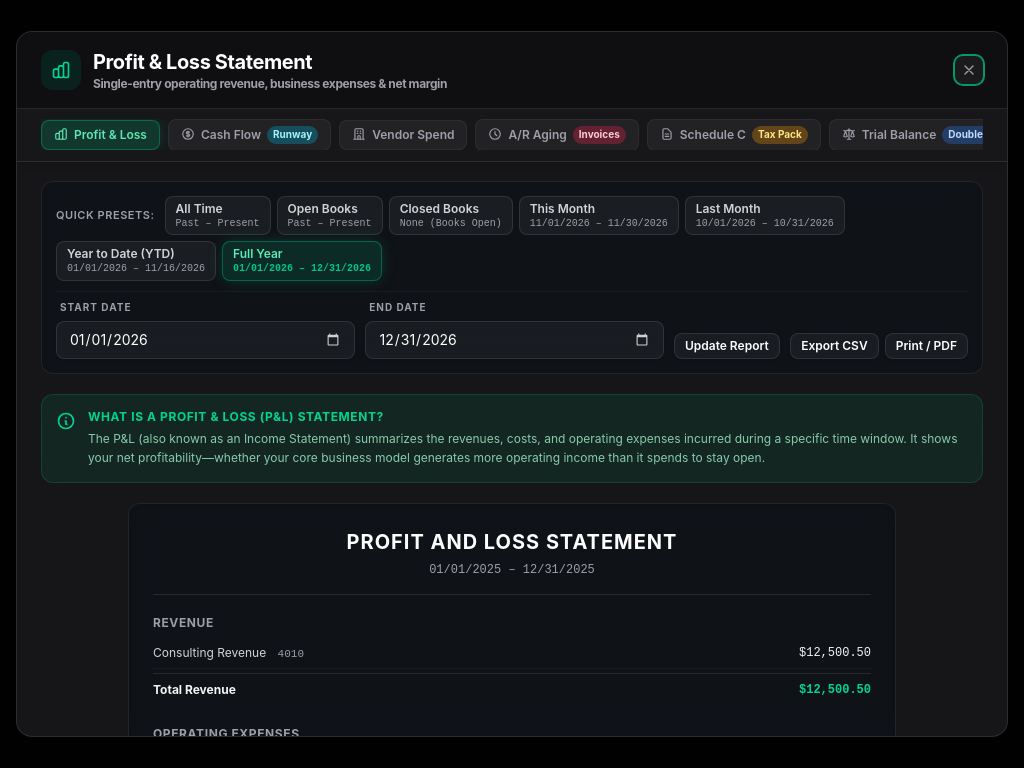
Test: ReportsModal - S23A (P&L, Cash Flow, Vendor Spend) › switches to Cash Flow and Vendor Spend tabs, renders analytics & 1099-NEC indicators, and handles empty states
The width and height of the screenshot is (1024, 768).
Expected: the text "Consulting Revenue" is shown, top-left (153, 645), bottom-right (266, 660)
Note: Tab 2: Cash Flow
Click the tab "Cash Flow Runway".
click(250, 134)  # box top-left (168, 119), bottom-right (331, 150)
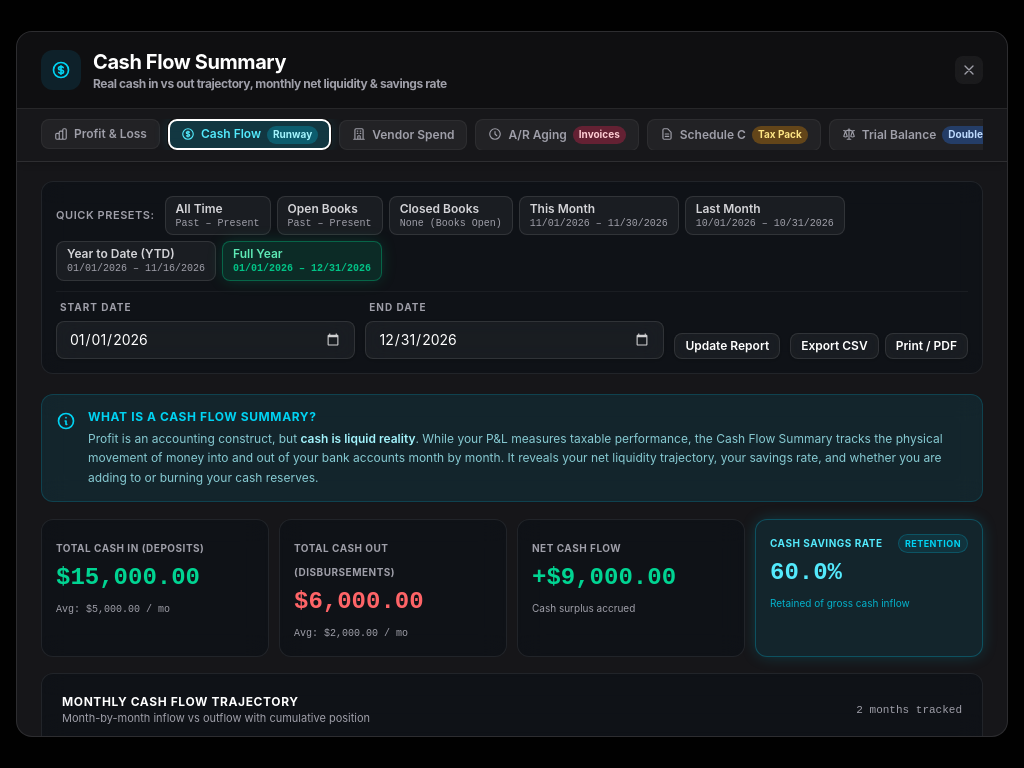
Expected: the heading "Monthly Cash Flow Trajectory" is shown, top-left (62, 694), bottom-right (299, 708)
Expected: the text "$15,000.00" is shown 2 times
Expected: the text "+$9,000.00" is shown 2 times
Click the button "Export CSV".
click(834, 346)  # box top-left (790, 333), bottom-right (879, 359)
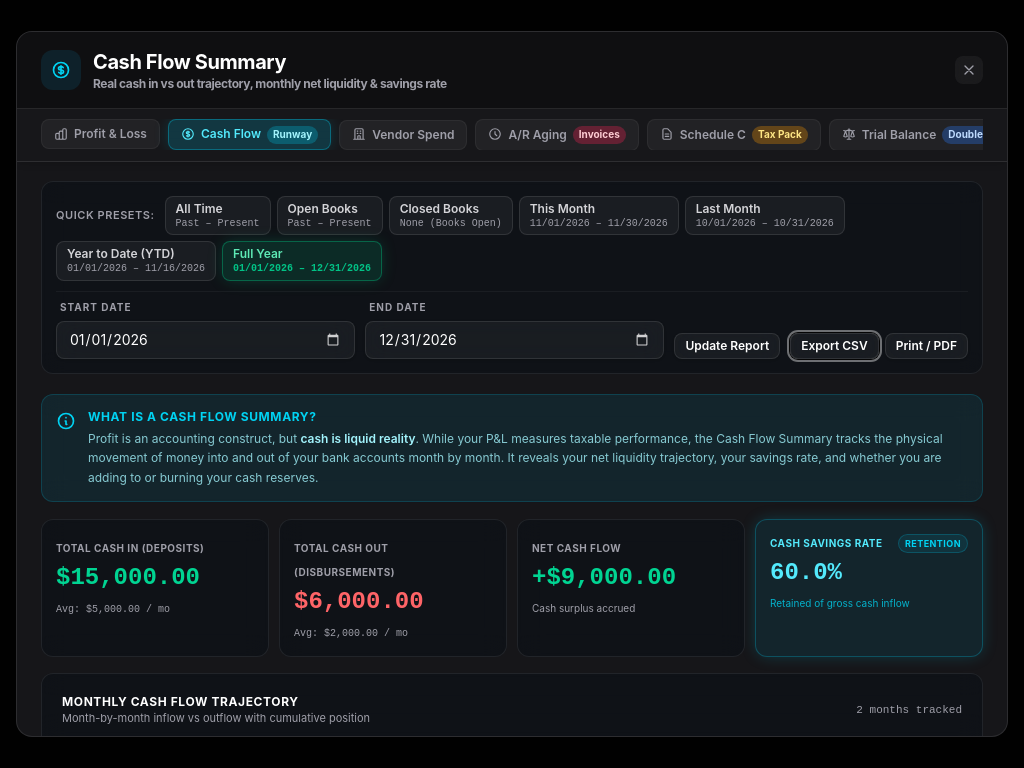
Click the button "This Month 11/01/2026 – 11/30/2026".
click(599, 216)  # box top-left (519, 196), bottom-right (679, 236)
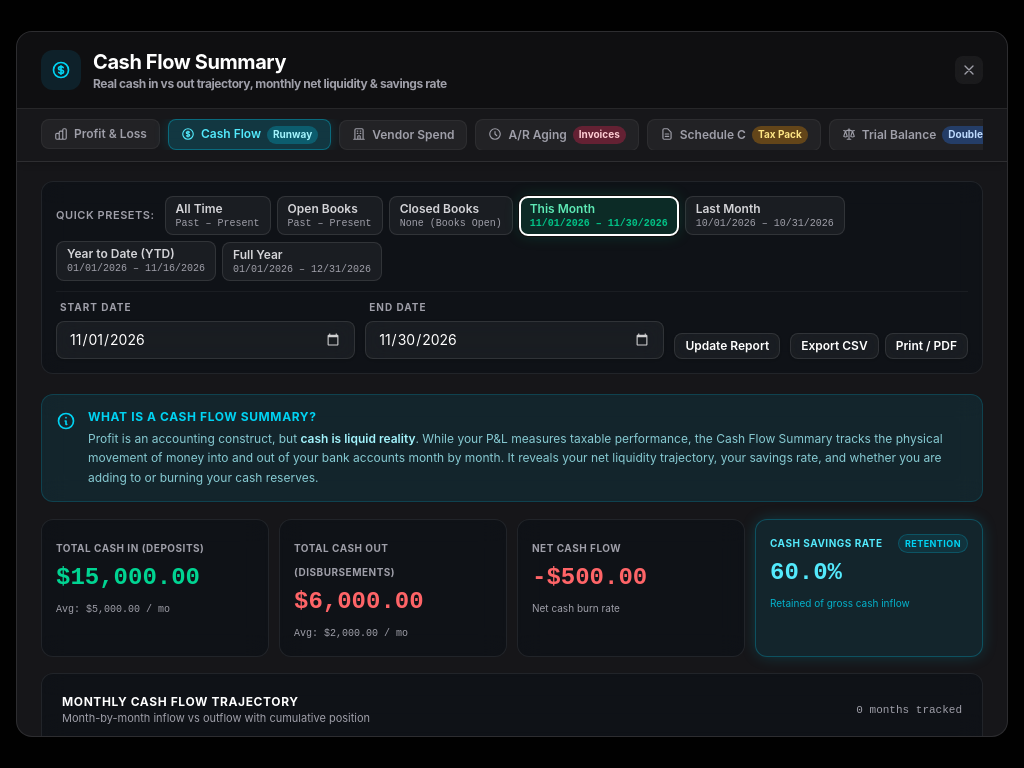
Note: Tab 3: Vendor Spend
Click the tab "Vendor Spend".
click(403, 134)  # box top-left (339, 119), bottom-right (468, 149)
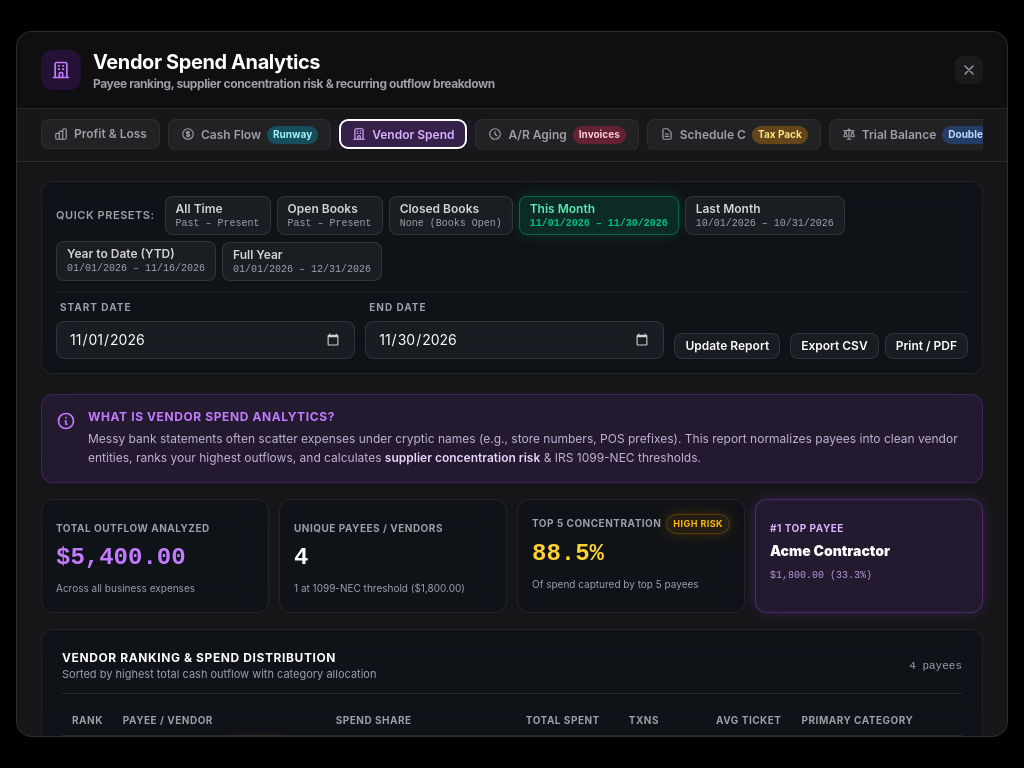
Expected: the heading "Vendor Ranking & Spend Distribution" is shown, top-left (62, 650), bottom-right (376, 666)
Expected: the text "High Risk" is shown, top-left (666, 514), bottom-right (730, 534)
Expected: the text "1 at 1099-NEC threshold ($1,800.00)" is shown, top-left (294, 582), bottom-right (465, 594)
Click the button "Export CSV".
click(834, 346)  # box top-left (790, 333), bottom-right (879, 359)
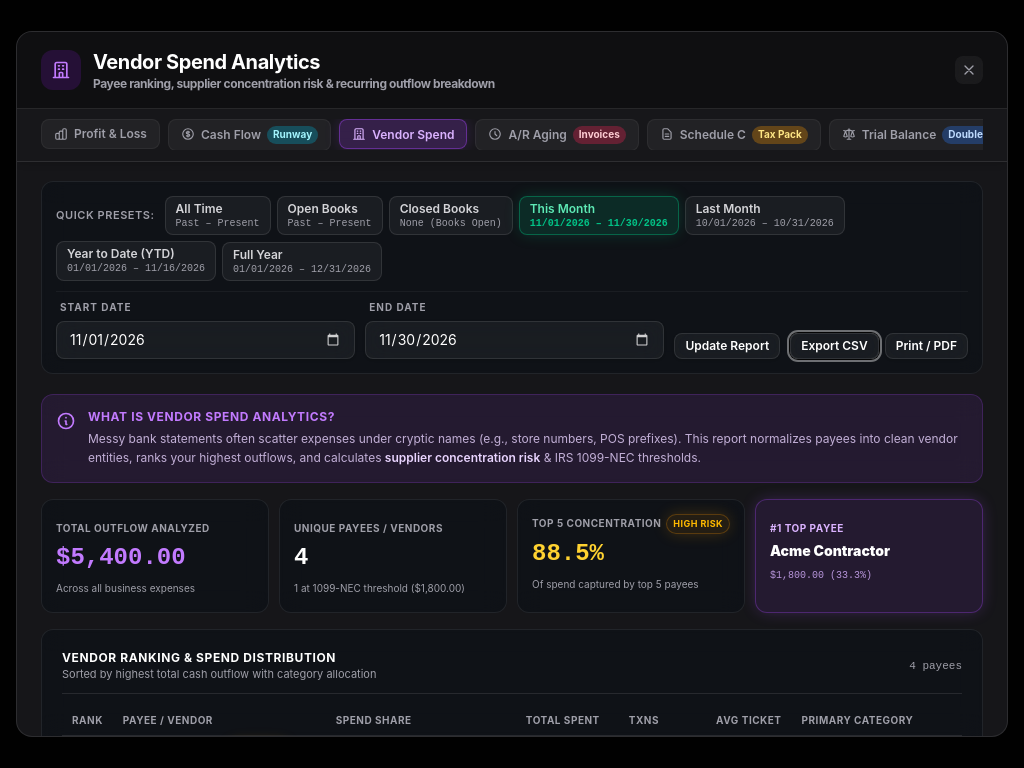
Click the button "Update Report".
click(727, 346)  # box top-left (674, 333), bottom-right (780, 359)
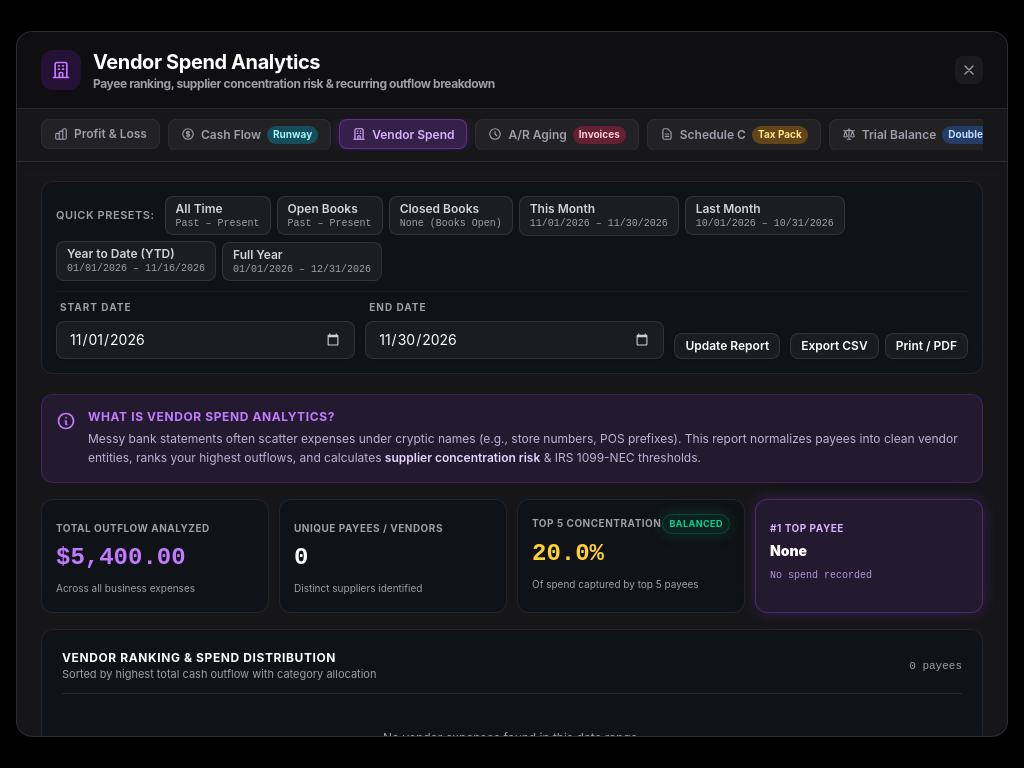
Expected: the text "Balanced" is shown, top-left (662, 514), bottom-right (730, 534)
